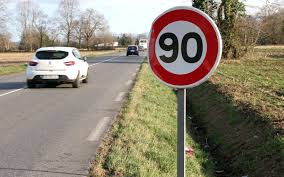Speed_limit_90km: (146, 7, 222, 87)
car: (25, 45, 92, 88)
